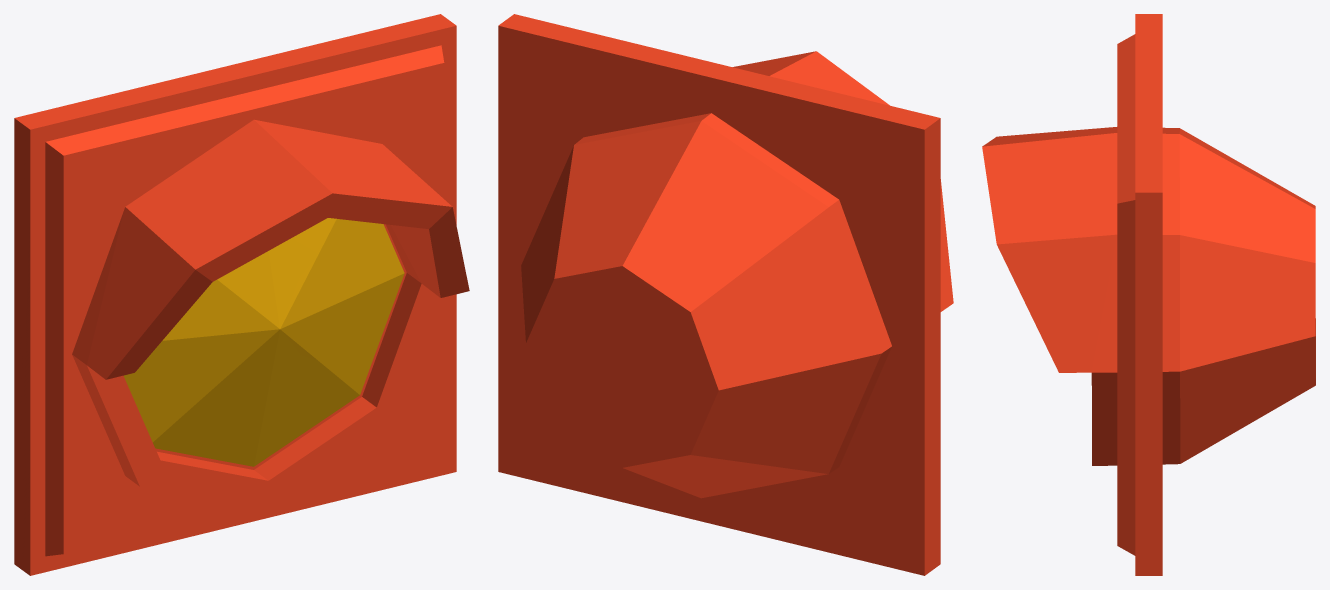
File: SM_Traffic_Light_Simple_B_City.fbx
3 renders of one model, left to right at view 1: azimuth 30°, elevation 25°; view 2: azimuth 150°, elevation 25°; view 3: azimuth 270°, elevation 25°, orthographic. The views are drawn at different scales.
Visible parts, largest first — view 1: SM_Traffic_Light_Simple_B_City; view 2: SM_Traffic_Light_Simple_B_City; view 3: SM_Traffic_Light_Simple_B_City.
Boxes of the visible parts, bbox=[...] form: SM_Traffic_Light_Simple_B_City: bbox=[14, 14, 469, 575]; SM_Traffic_Light_Simple_B_City: bbox=[498, 14, 953, 575]; SM_Traffic_Light_Simple_B_City: bbox=[982, 14, 1315, 575].
Size of the model in its own units: 0.3467 by 0.3467 by 0.2736.
